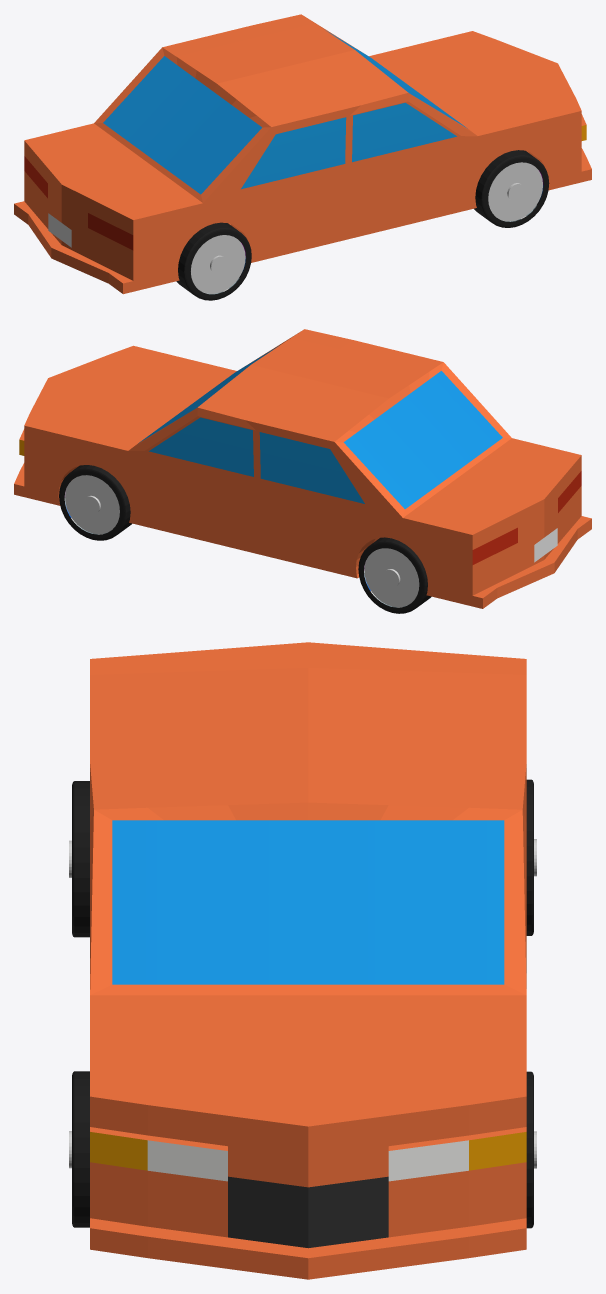
The model's file is shitbox.glb.
3 views of the same model, one above another, from view 1: azimuth 30°, elevation 25°; view 2: azimuth 150°, elevation 25°; view 3: azimuth 270°, elevation 25° (orthographic). The views are drawn at different scales.
Parts seen in each view (by area): view 1: Car, Tire.001, Tire; view 2: Car, Tire.002, Tire.003; view 3: Car, Tire.001, Tire, Tire.002, Tire.003.
Part boxes in pixels (x1,y1,x2,y2): Car: (14,14,591,294); Tire.001: (176,222,251,300); Tire: (474,150,549,227); Car: (14,329,591,608); Tire.002: (59,465,131,540); Tire.003: (358,537,431,613); Car: (90,642,526,1279); Tire.001: (69,781,89,937); Tire: (69,1071,89,1227); Tire.002: (526,1071,536,1228); Tire.003: (526,779,536,935).
Size of the model in its own units: 15.12 by 4.45 by 5.93.
Materials: 2 (2 with a texture image).
